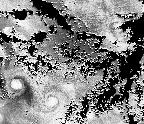CE: (3, 72, 27, 98), (41, 88, 65, 113)
